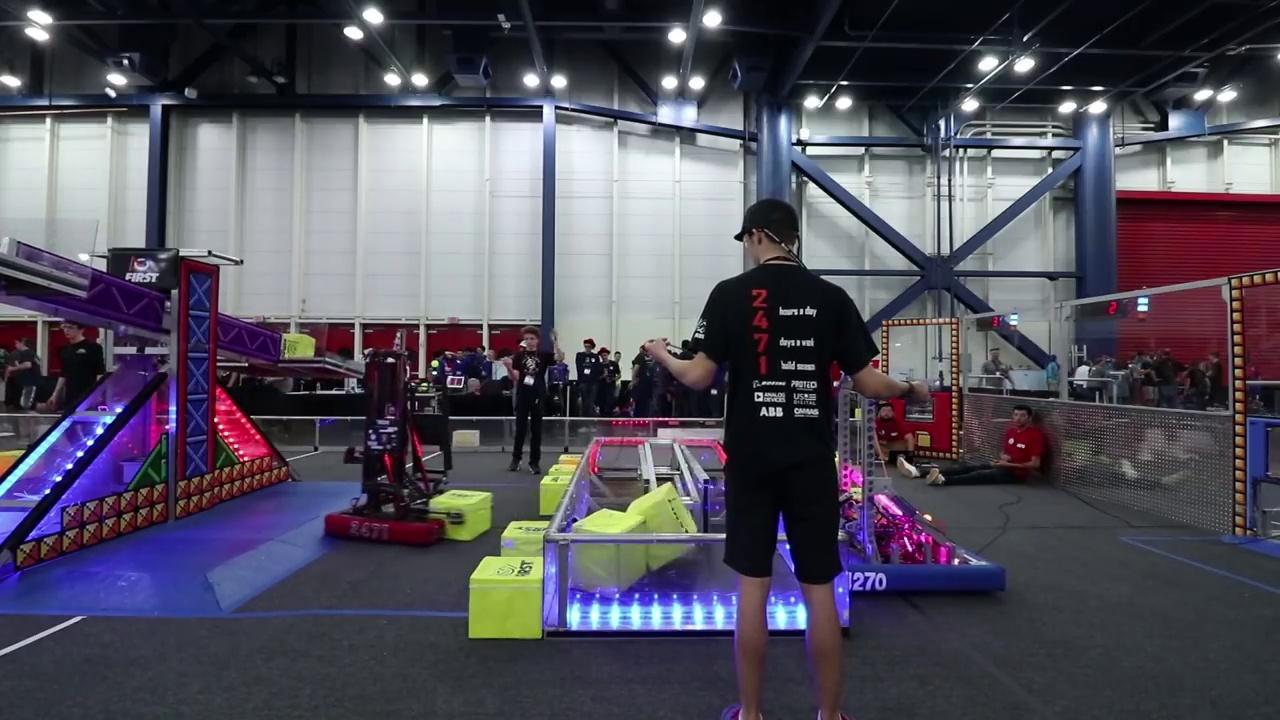robot: (829, 386, 1008, 602), (318, 350, 490, 550)
